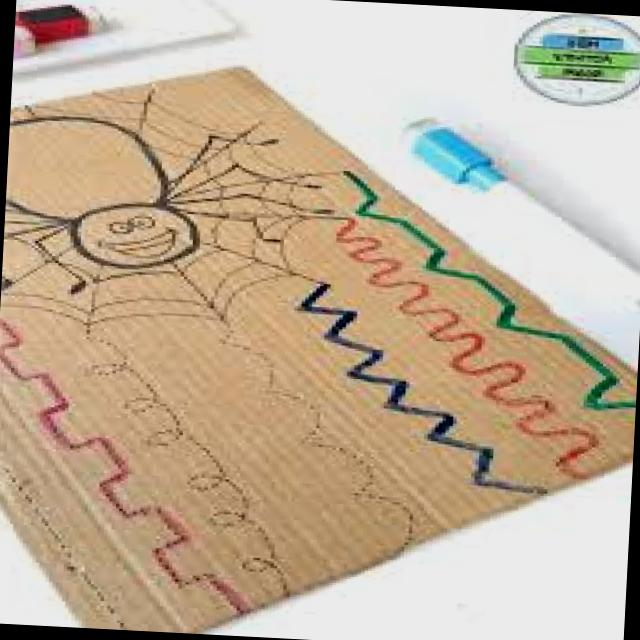cardboard: (0, 70, 637, 633)
